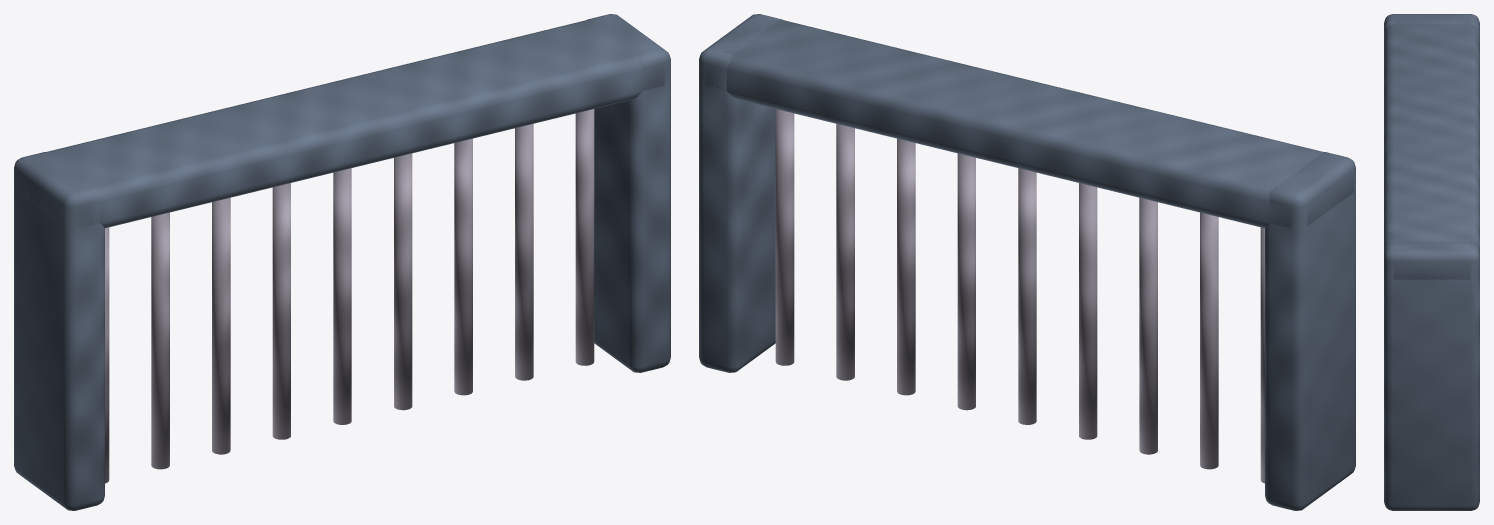
Rendered from gate.glb.
3 renders of one model, left to right at view 1: azimuth 30°, elevation 25°; view 2: azimuth 150°, elevation 25°; view 3: azimuth 270°, elevation 25°, orthographic. The views are drawn at different scales.
Visible parts, largest first — view 1: gate_frame, gate_bars; view 2: gate_frame, gate_bars; view 3: gate_frame.
Part boxes in pixels (x1,y1,x2,y2): gate_frame: [14, 14, 670, 510]; gate_bars: [105, 109, 594, 483]; gate_frame: [699, 14, 1355, 510]; gate_bars: [775, 109, 1264, 483]; gate_frame: [1384, 14, 1479, 510].
Size of the model in its own units: 6 by 3 by 1.
1 material, 1 textured.
